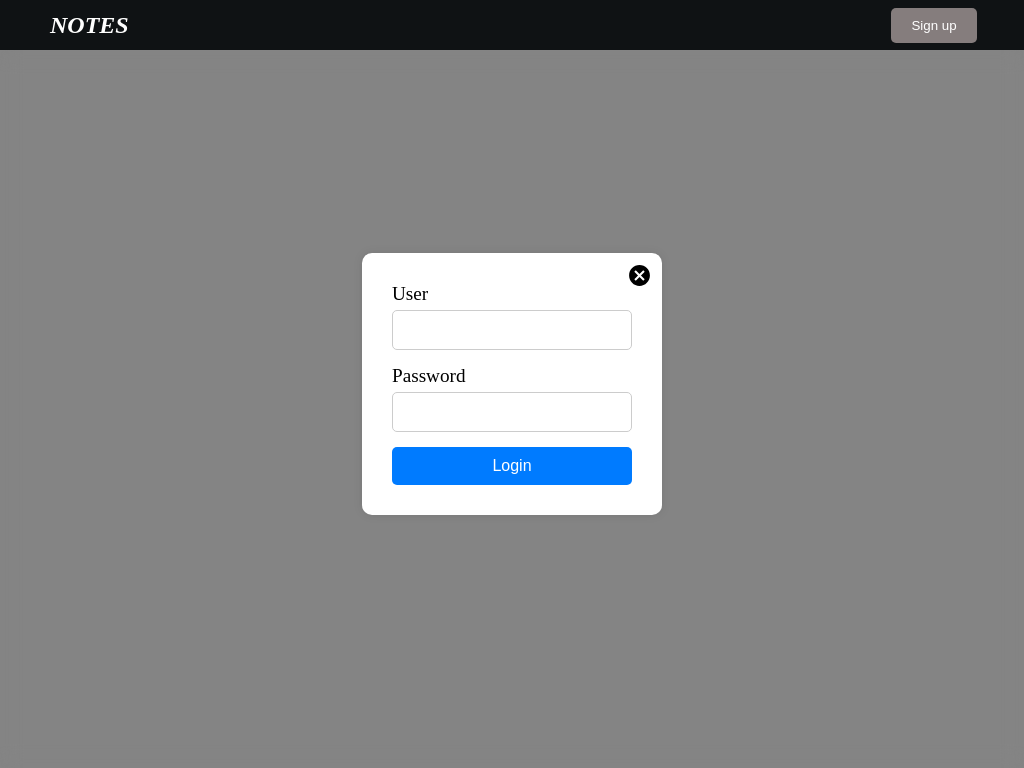
Test: note app › user write wrong credentials
Type "juan" into the field named "user".
click(512, 330); type("juan")  # box 392,310 -> 632,350
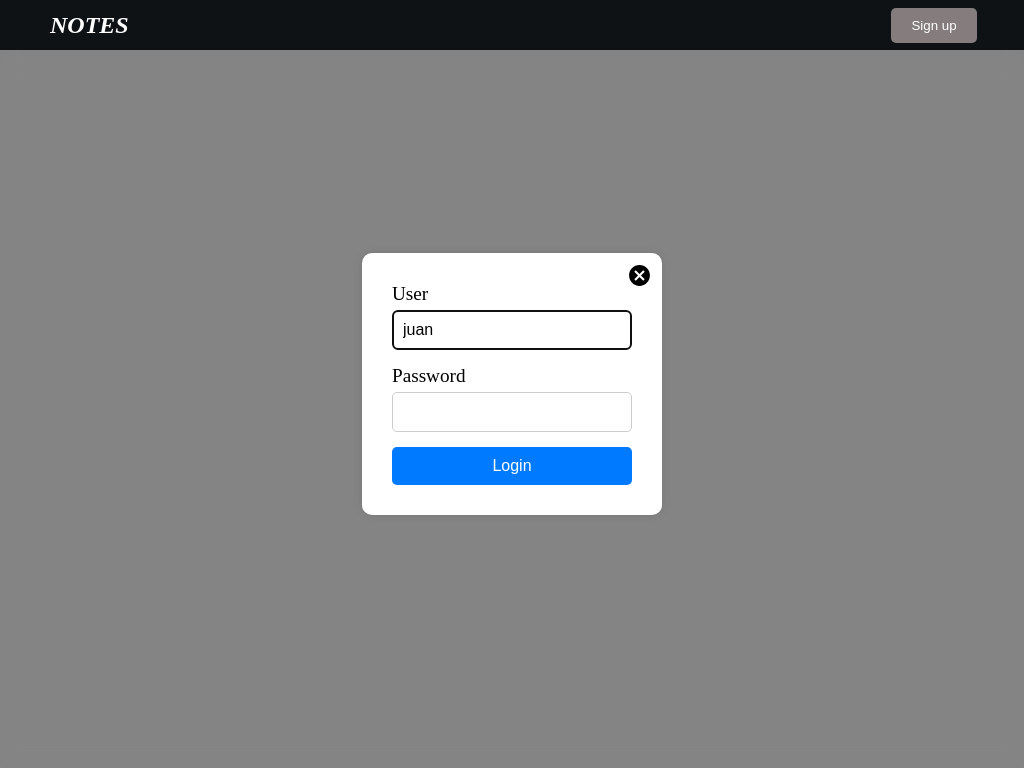
Type "123" into the password field named "password".
click(512, 412); type("123")  # box 392,392 -> 632,432
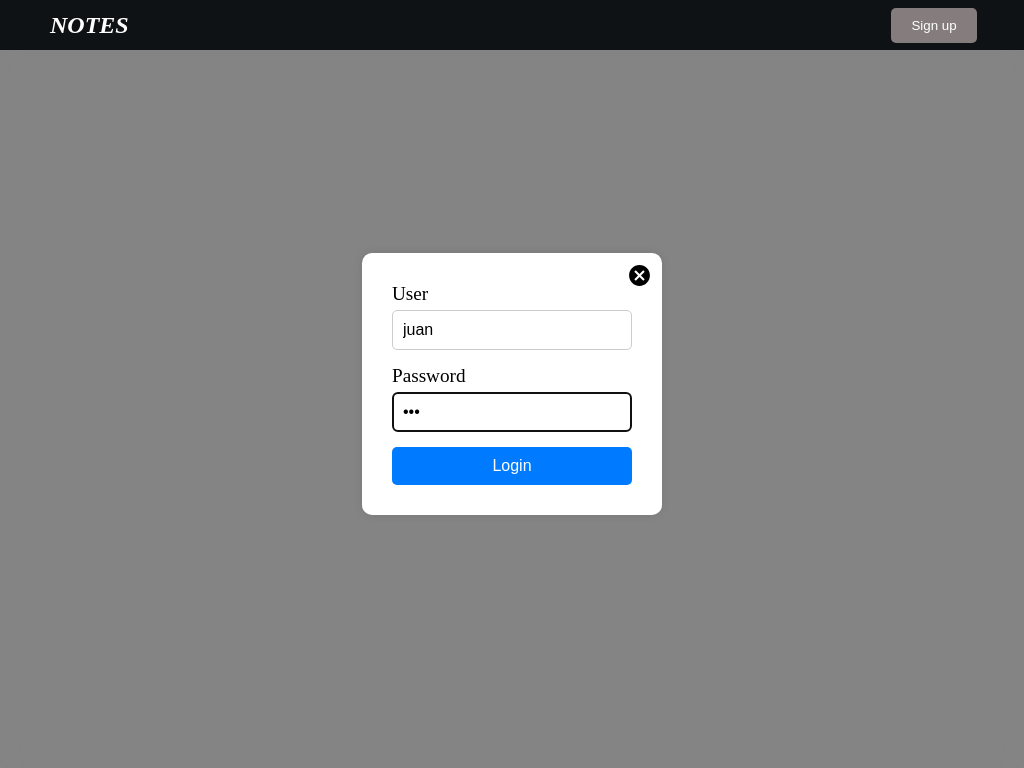
Click the button "Login".
click(512, 466)  # box 392,447 -> 632,485
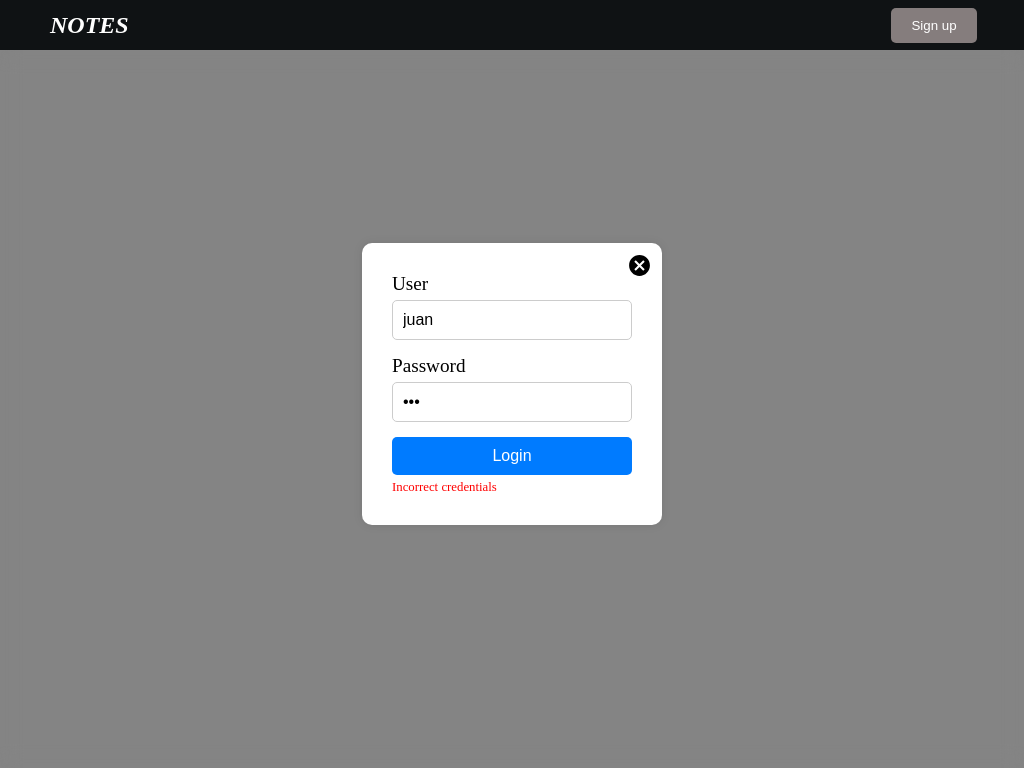
Check: the text "Incorrect credentials" is shown, box 392,480 -> 497,494
